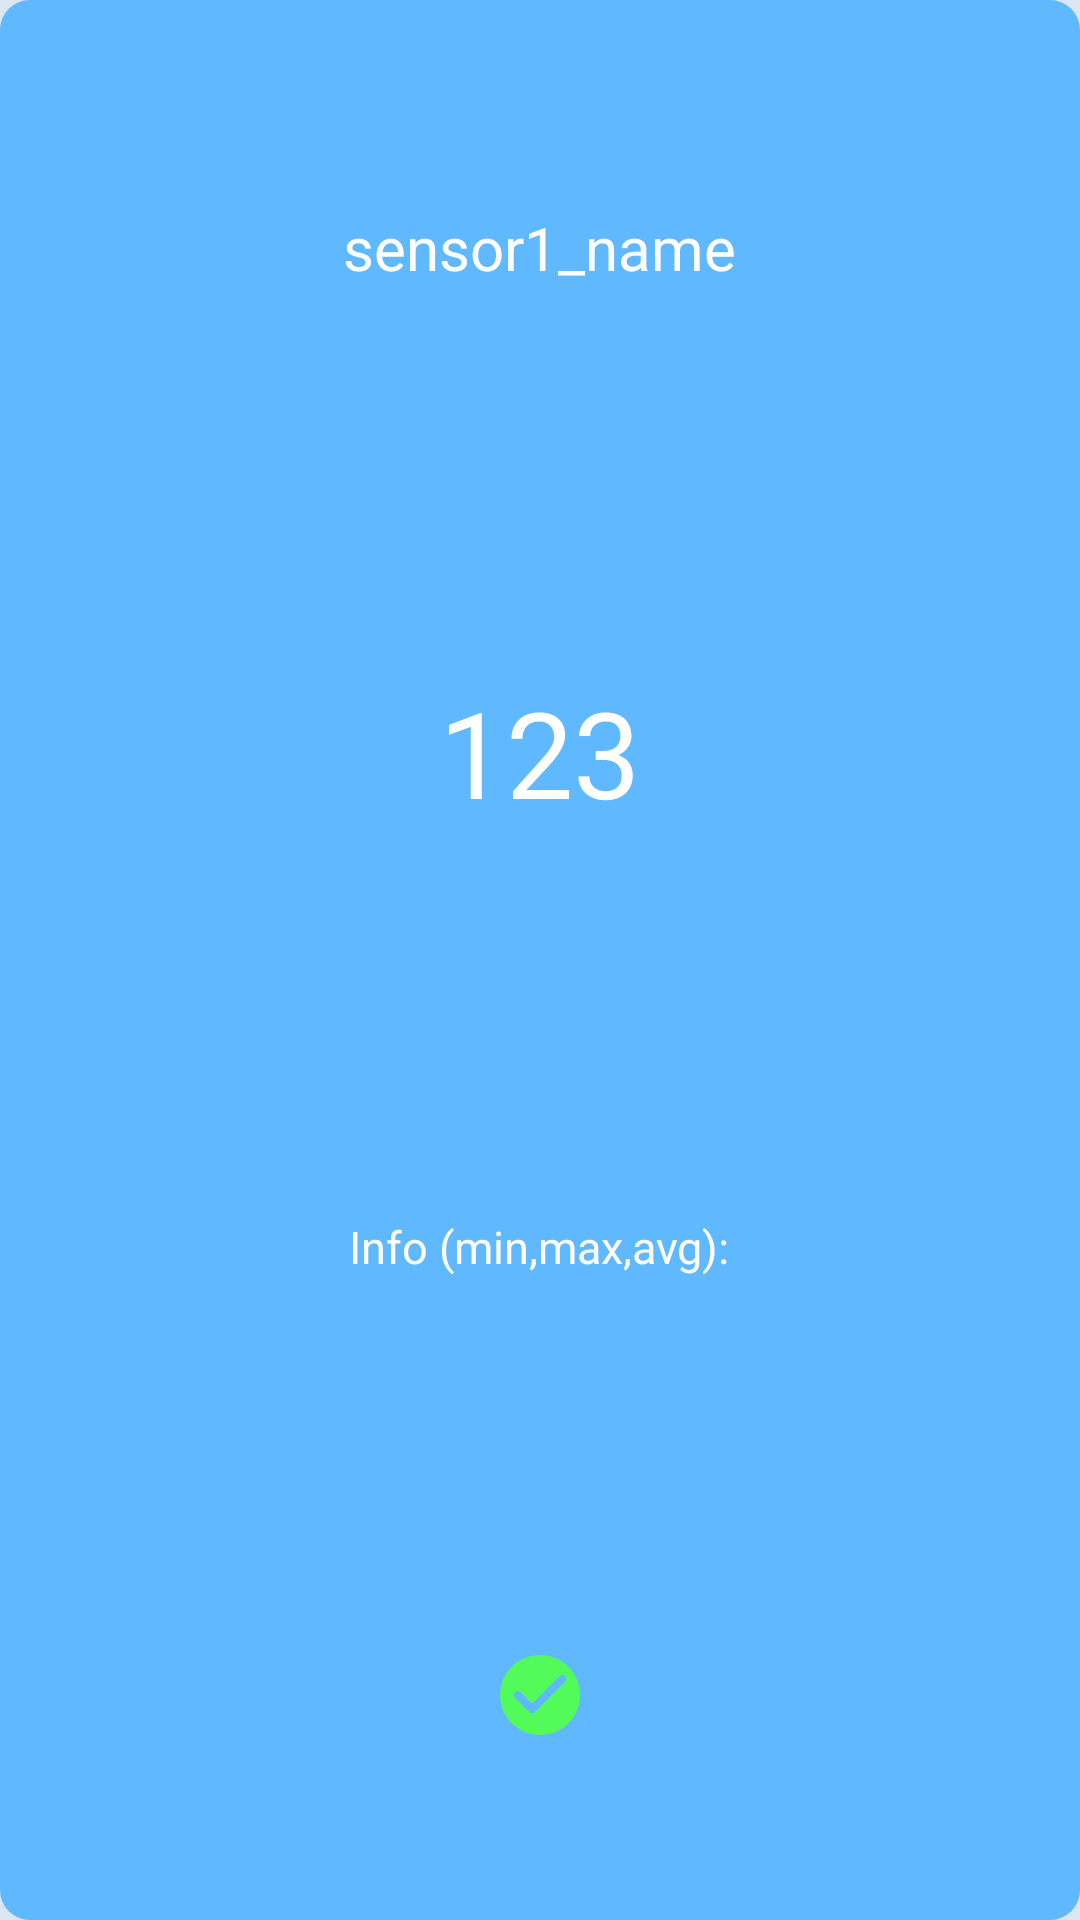

Point at icon controls on the screen. Image size 1080w x 1920h, points as (x=x, y=y).
checkmark: (x=540, y=1695)
